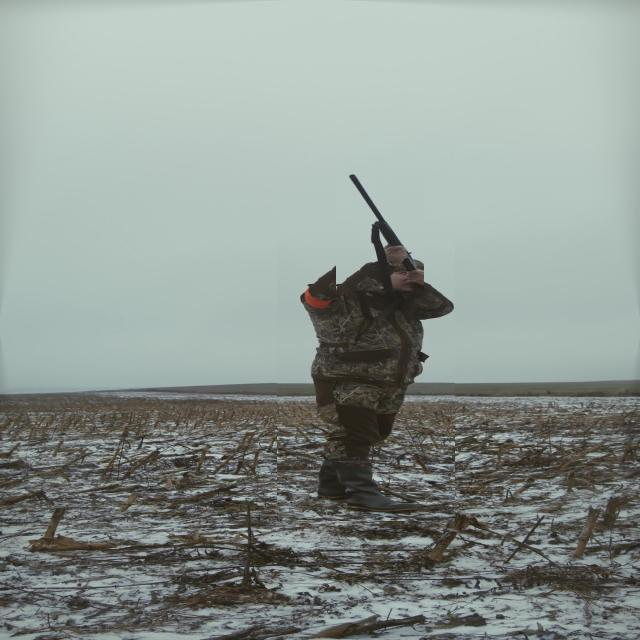poacher: (277, 233, 455, 521)
weapon: (336, 168, 424, 291)
